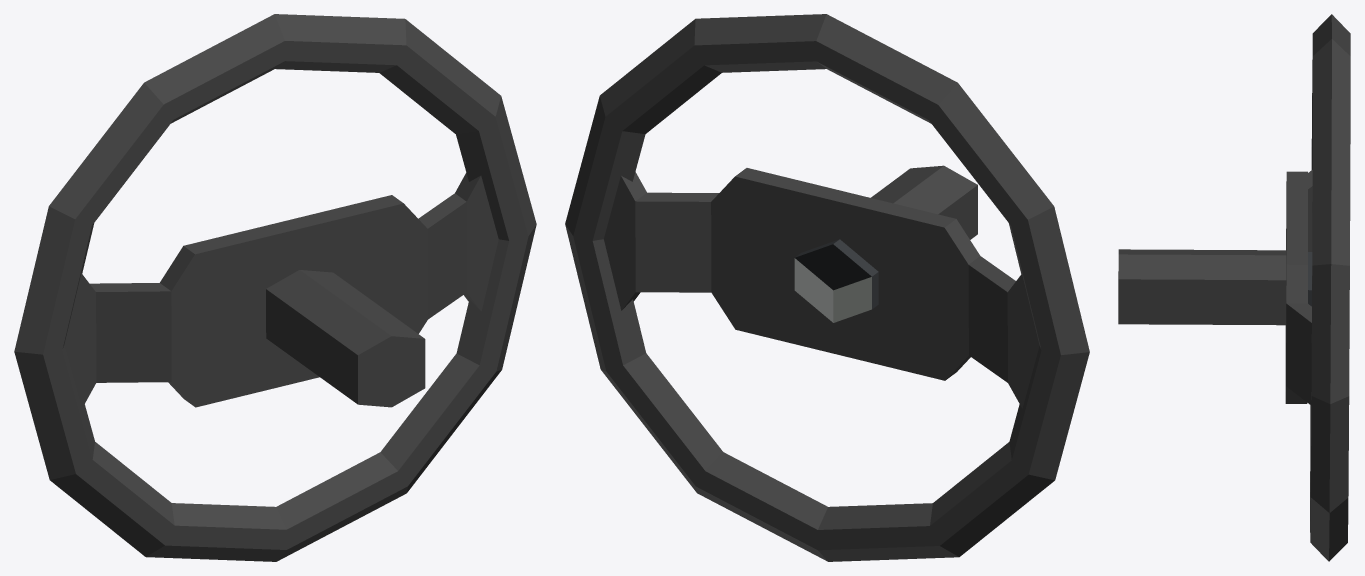
File: SM_Veh_Pickup_SteeringW_968.obj
The picture shows the model from 3 angles, left to right: view 1: azimuth 30°, elevation 25°; view 2: azimuth 150°, elevation 25°; view 3: azimuth 270°, elevation 25°; orthographic projection. The views are drawn at different scales.
Parts seen in each view (by area): view 1: SM_Veh_Pickup_SteeringW_0; view 2: SM_Veh_Pickup_SteeringW_0; view 3: SM_Veh_Pickup_SteeringW_0.
Boxes of the visible parts, box(x1,y1,x2,y2) form: SM_Veh_Pickup_SteeringW_0: box(14, 14, 536, 561); SM_Veh_Pickup_SteeringW_0: box(565, 14, 1089, 561); SM_Veh_Pickup_SteeringW_0: box(1118, 14, 1350, 561).
Bounding box in the file's own units: 0.4992 × 0.4992 × 0.2109.
1 material, 1 textured.
